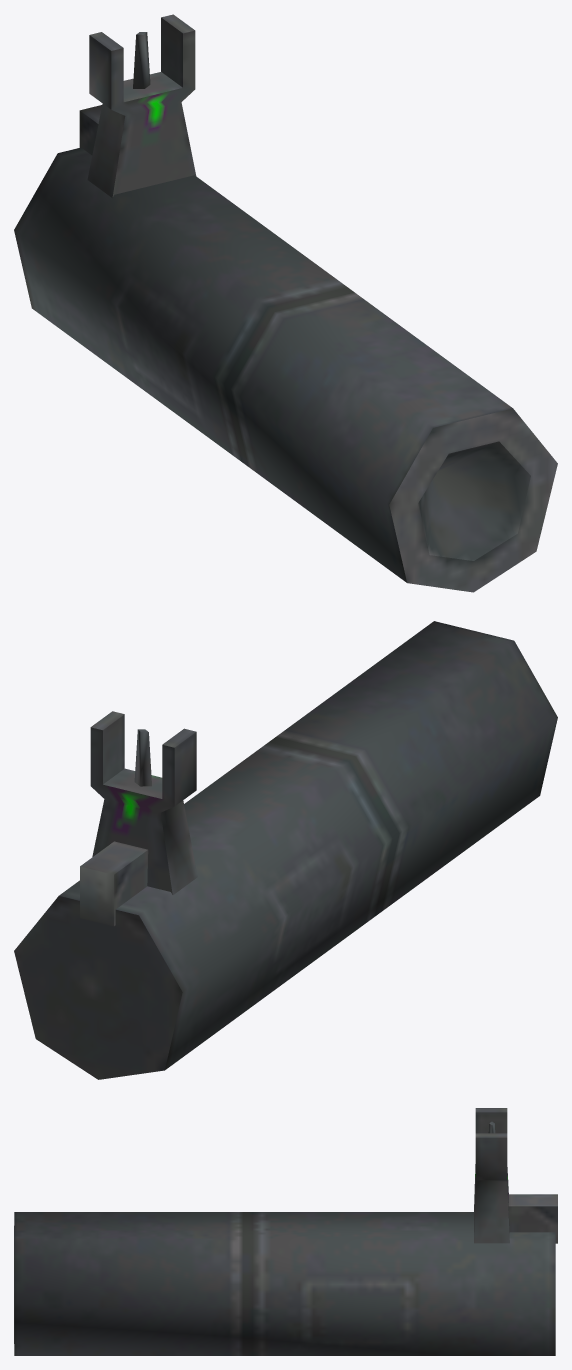
Rendered from Assault_Rifle_bq_qt_01_Stock_Main_(000918).glb.
3 views of the same model, one above another, from view 1: azimuth 30°, elevation 25°; view 2: azimuth 150°, elevation 25°; view 3: azimuth 270°, elevation 25° (orthographic). The views are drawn at different scales.
Visible parts, largest first — view 1: bq_qt_01; view 2: bq_qt_01; view 3: bq_qt_01.
Boxes of the visible parts, left/top/right/bottom form: bq_qt_01: left=14, top=14, right=557, bottom=592; bq_qt_01: left=14, top=621, right=557, bottom=1079; bq_qt_01: left=14, top=1108, right=557, bottom=1355.
Bounding box in the file's own units: 0.0445 × 0.0801 × 0.1721.
Materials: 1 (1 with a texture image).
